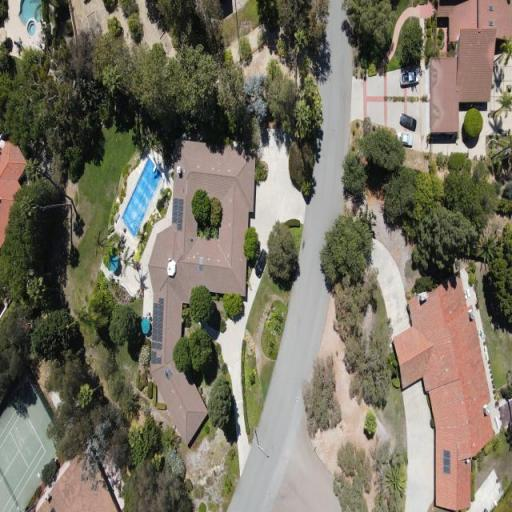solar-panel: (152, 298, 164, 342), (172, 198, 184, 231), (443, 450, 451, 475), (164, 365, 173, 381), (151, 351, 161, 365), (152, 342, 162, 350), (199, 257, 203, 272)
